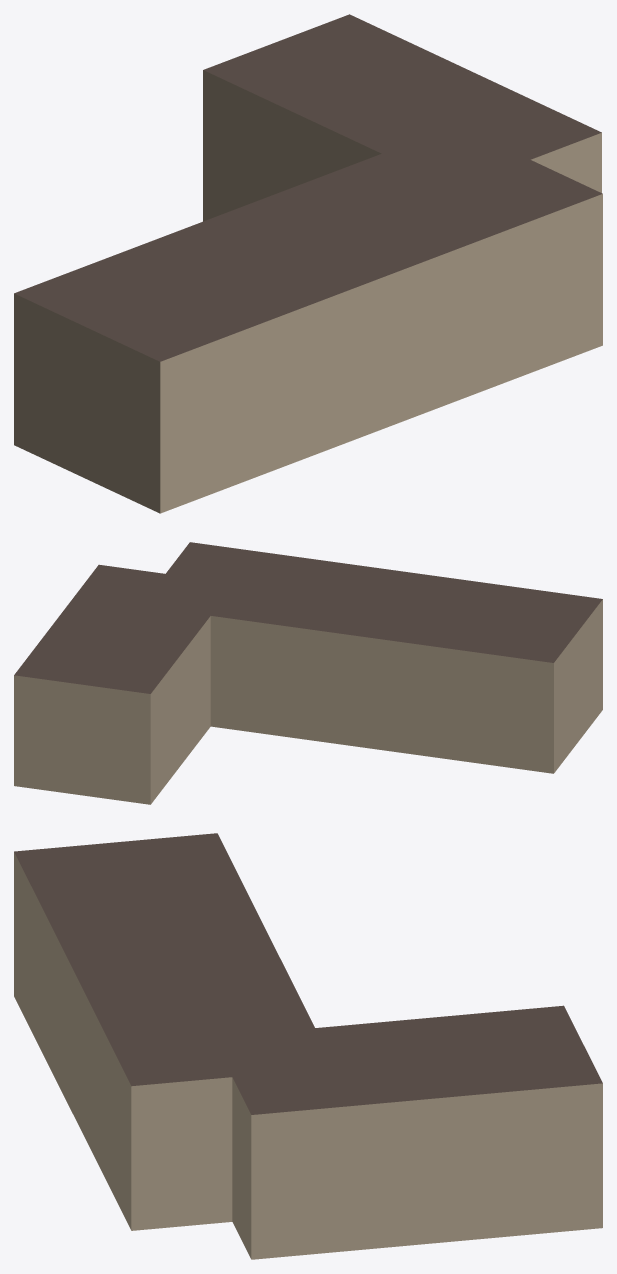
3 renders of one model, top to bottom at view 1: azimuth 30°, elevation 25°; view 2: azimuth 150°, elevation 25°; view 3: azimuth 270°, elevation 25°, orthographic. The views are drawn at different scales.
Parts seen in each view (by area): view 1: HP-w859488885; view 2: HP-w859488885; view 3: HP-w859488885.
Part boxes in pixels (x1=…): HP-w859488885: x1=14, y1=14, x2=602, y2=513; HP-w859488885: x1=14, y1=542, x2=602, y2=804; HP-w859488885: x1=14, y1=833, x2=602, y2=1259.
Bounding box in the file's own units: 37.6 × 9 × 33.2.
